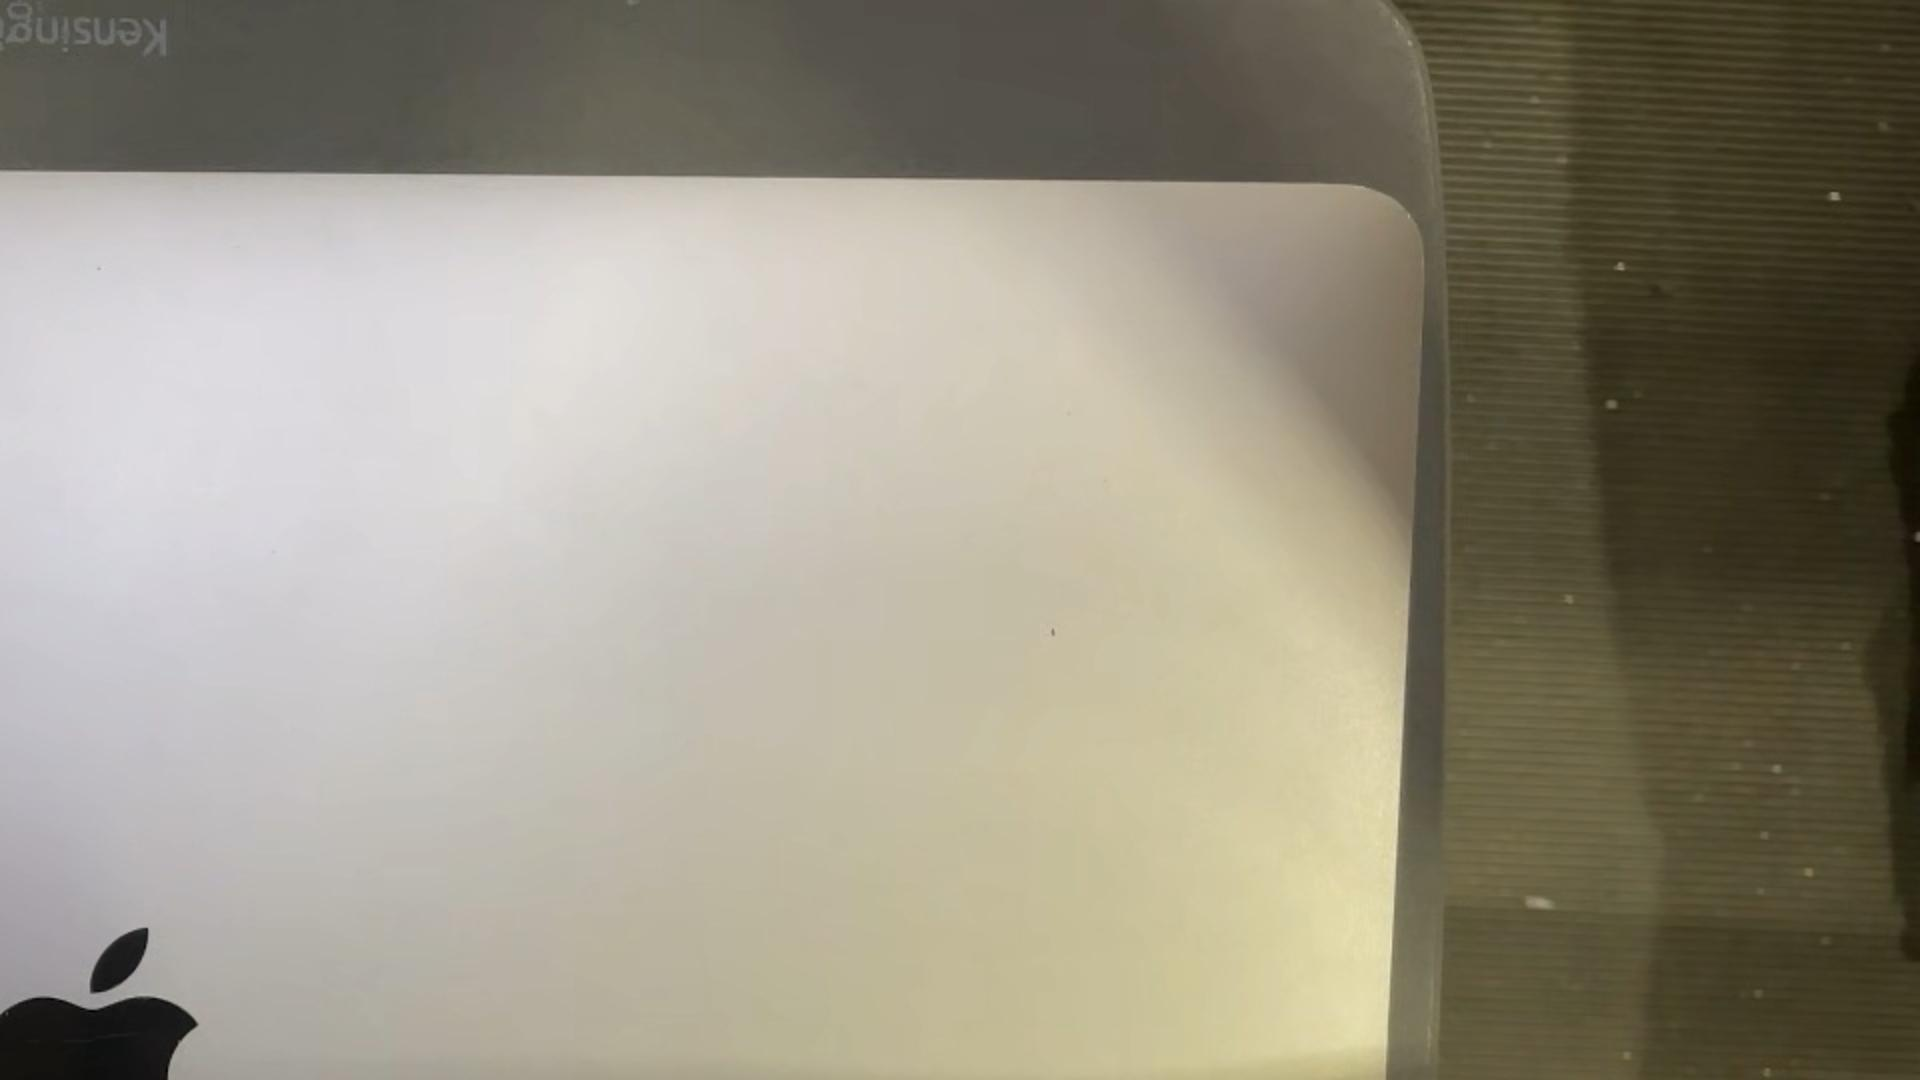scratches: (1048, 624, 1058, 638)
